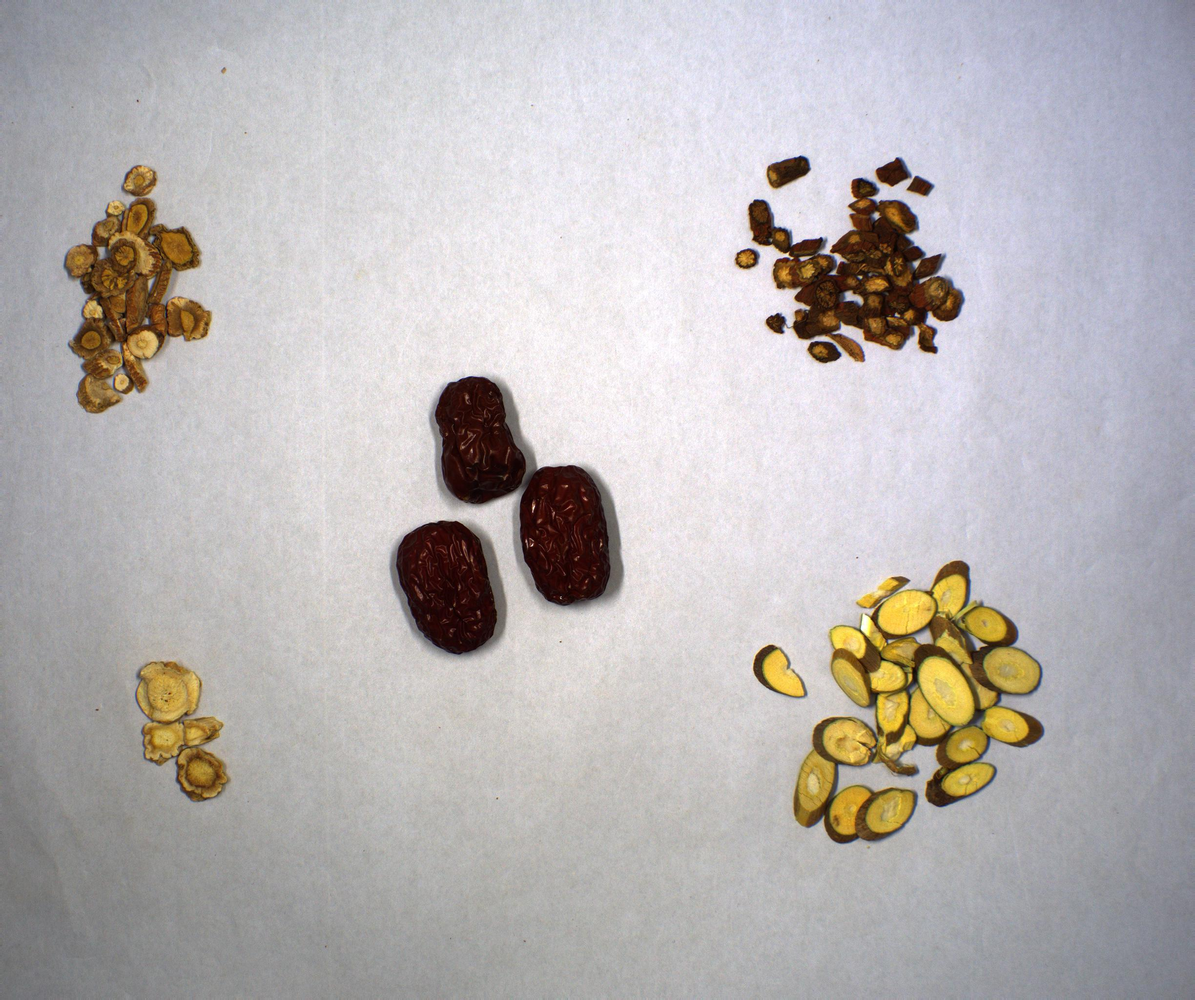banlangen: (56, 160, 215, 417)
danshen: (741, 143, 971, 362)
dazao: (390, 372, 626, 655)
jiegeng: (130, 651, 240, 806)
sangzhi: (747, 557, 1054, 846)
